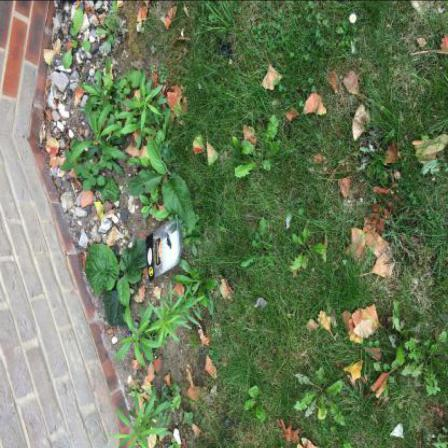Plastic bag - wrapper: (147, 215, 178, 282), (255, 298, 268, 310)
Plastic container: (147, 215, 184, 282)
Unlabeled litter: (390, 425, 405, 438)
